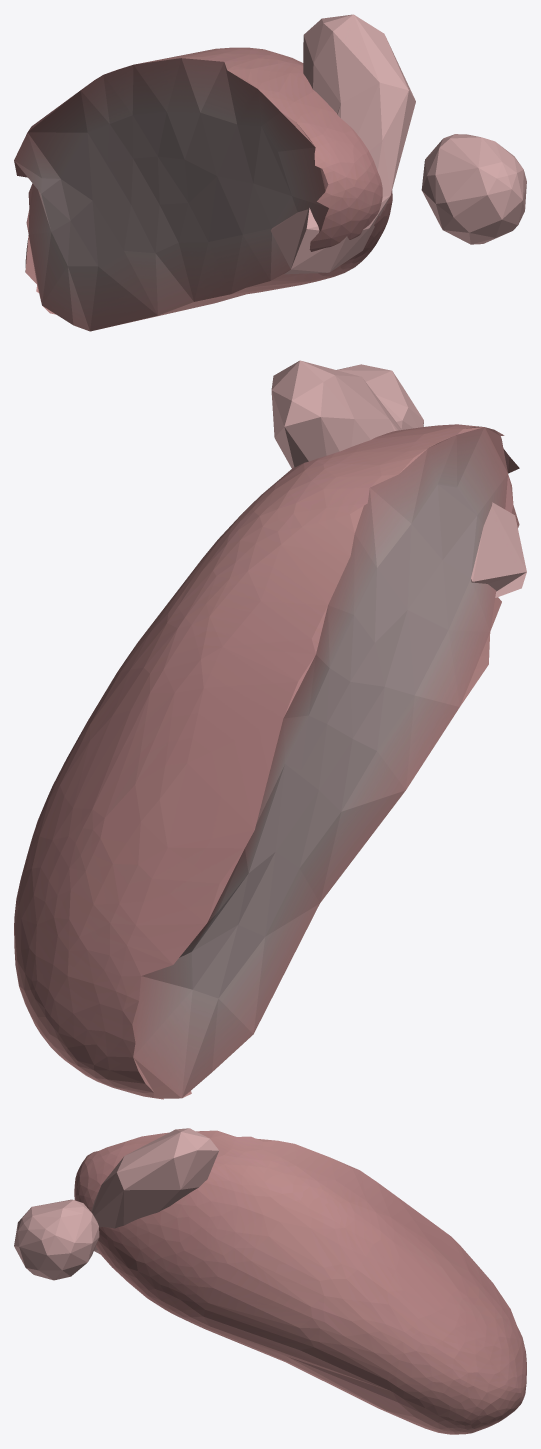
Rendered from Pineal_gland.obj.
3 views of the same model, one above another, from view 1: azimuth 30°, elevation 25°; view 2: azimuth 150°, elevation 25°; view 3: azimuth 270°, elevation 25° (orthographic). The views are drawn at different scales.
Parts seen in each view (by area): view 1: obj0; view 2: obj0; view 3: obj0.
Boxes of the visible parts, x1,y1,x2,y2 form: obj0: (14,14,526,331); obj0: (14,360,526,1099); obj0: (14,1128,526,1434).
Size of the model in its own units: 5.15 by 8.98 by 13.33.
1 material, 1 textured.
